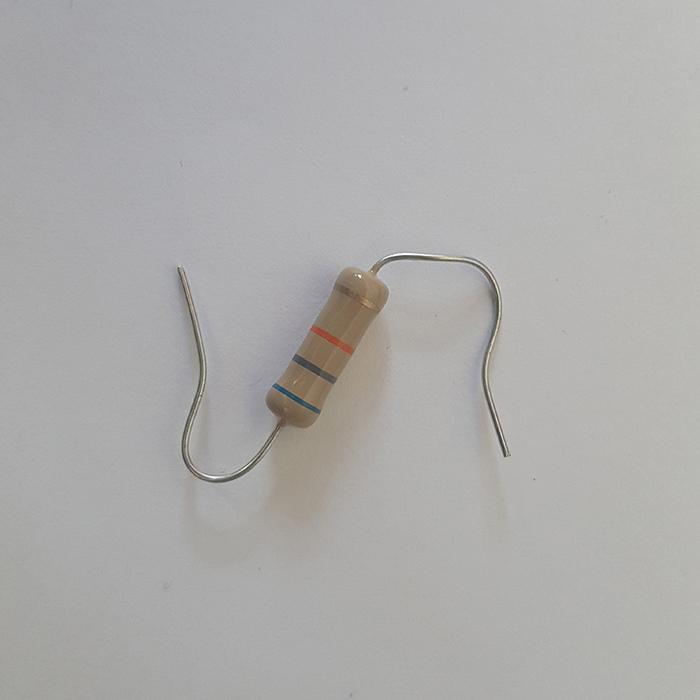resistor: (268, 266, 390, 428)
